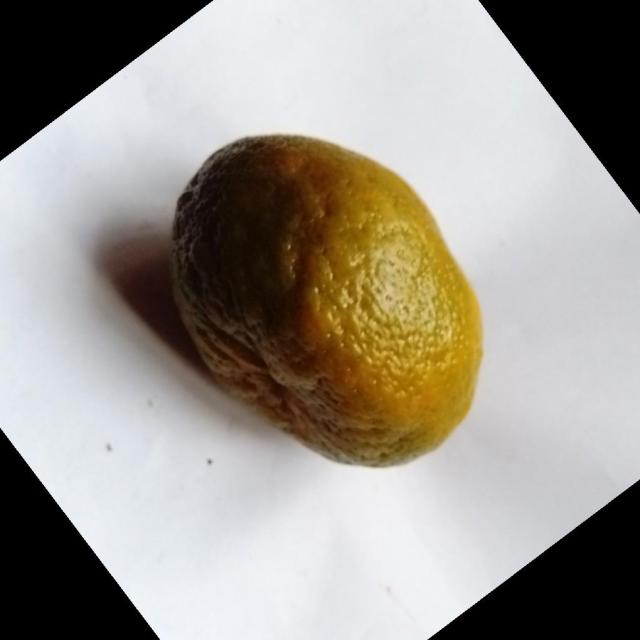fresh orange: (167, 131, 483, 468)
